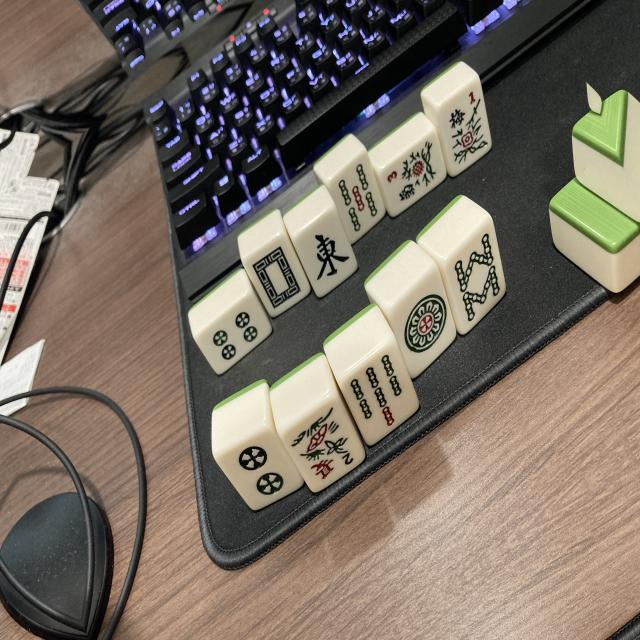1D: (382, 274, 467, 373)
1F: (431, 86, 498, 176)
2D: (216, 424, 308, 516)
2S: (277, 396, 368, 494)
3F: (376, 137, 454, 217)
4D: (189, 296, 275, 382)
5B: (322, 158, 394, 242)
7B: (333, 344, 426, 447)
8B: (436, 233, 512, 329)
EW: (290, 212, 368, 300)
WD: (241, 236, 318, 320)
